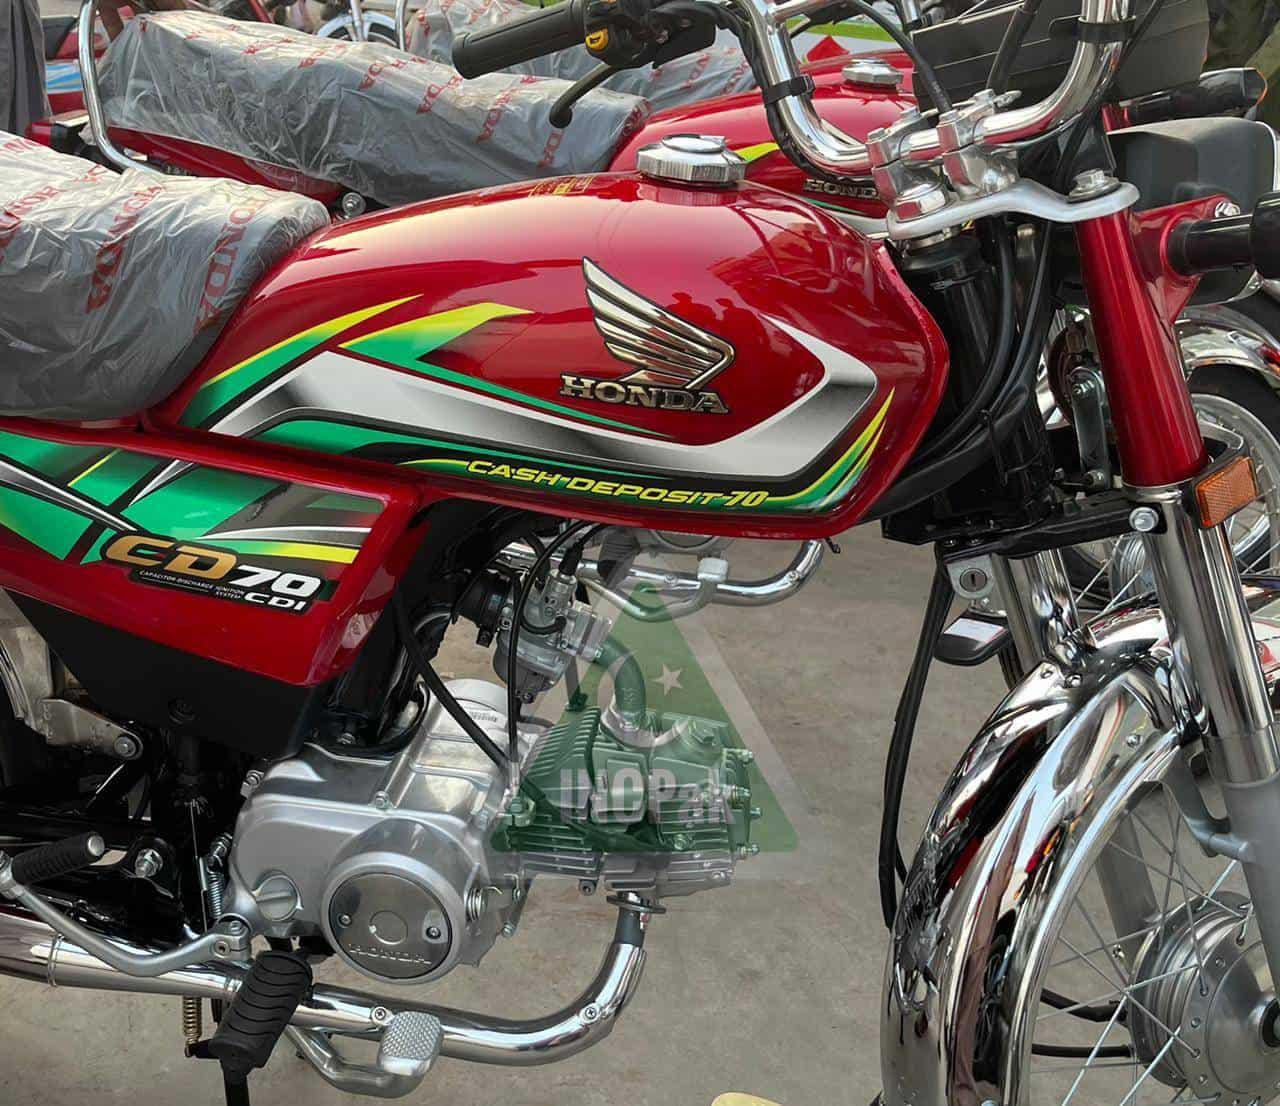bike: (1, 87, 1280, 1106), (94, 2, 1280, 223)
